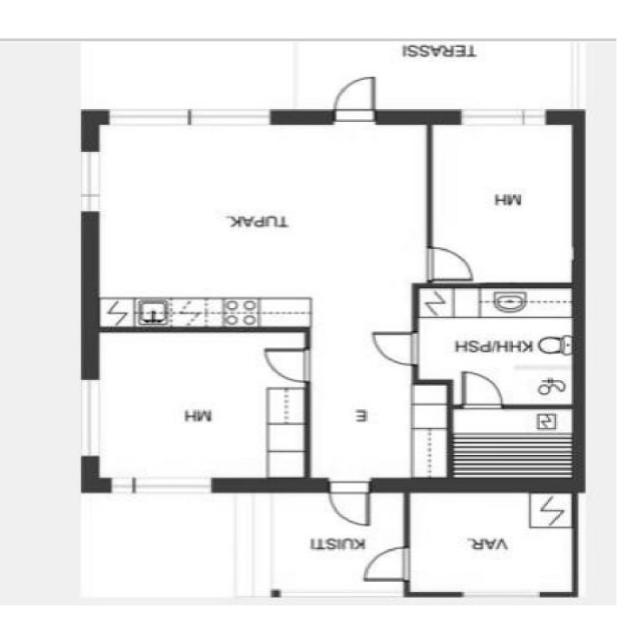door: (326, 73, 382, 129), (363, 326, 425, 369), (324, 477, 374, 530), (353, 542, 416, 584), (454, 366, 507, 414), (419, 242, 476, 284), (259, 345, 316, 385)
window: (446, 404, 580, 487), (98, 468, 224, 502), (168, 102, 280, 132), (71, 372, 107, 464), (449, 102, 557, 132), (71, 139, 106, 222), (100, 102, 202, 129), (453, 587, 546, 606)
zone: (87, 115, 427, 337), (89, 328, 315, 485), (426, 118, 579, 284), (414, 284, 579, 407), (405, 490, 578, 598), (447, 404, 578, 486)
